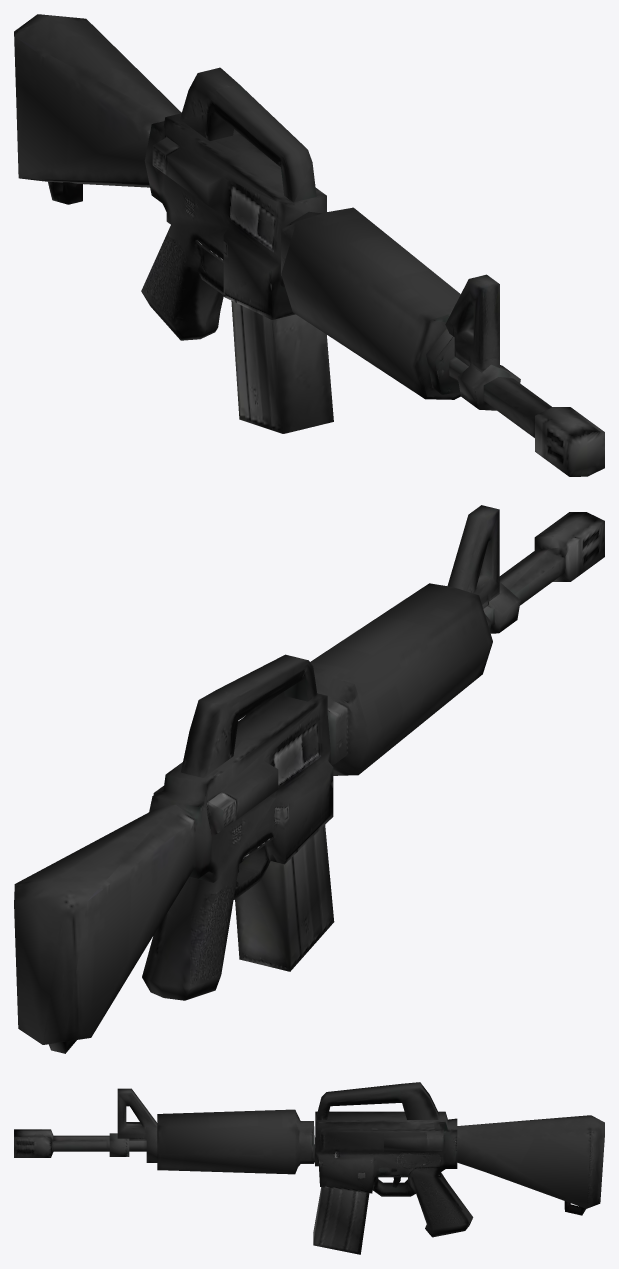
The picture shows the model from 3 angles, top to bottom: view 1: azimuth 30°, elevation 25°; view 2: azimuth 150°, elevation 25°; view 3: azimuth 270°, elevation 25°; orthographic projection. The views are drawn at different scales.
Visible parts, largest first — view 1: tripo_node_dbb3836f-b533-4be9-b65f-9c88cbe58059; view 2: tripo_node_dbb3836f-b533-4be9-b65f-9c88cbe58059; view 3: tripo_node_dbb3836f-b533-4be9-b65f-9c88cbe58059.
Boxes of the visible parts, x1,y1,x2,y2 form: tripo_node_dbb3836f-b533-4be9-b65f-9c88cbe58059: (14, 14, 604, 476); tripo_node_dbb3836f-b533-4be9-b65f-9c88cbe58059: (14, 505, 604, 1053); tripo_node_dbb3836f-b533-4be9-b65f-9c88cbe58059: (14, 1082, 604, 1254).
Size of the model in its own units: 0.1556 by 0.5022 by 1.65.
1 material, 1 textured.
